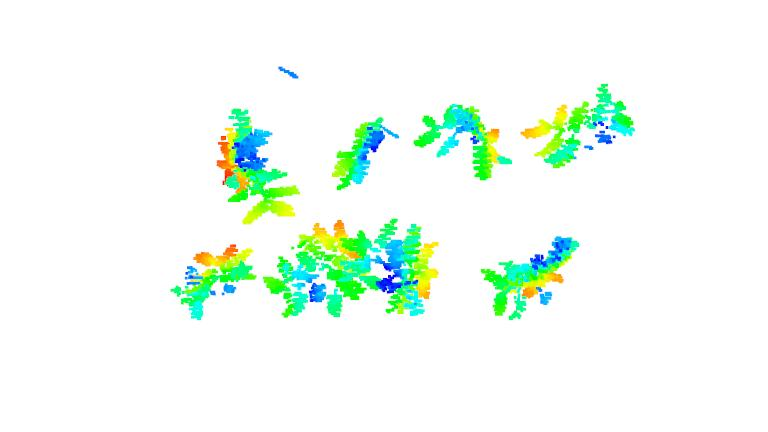chickpea: (212, 107, 303, 225), (263, 222, 376, 317), (520, 80, 637, 169), (480, 232, 582, 321), (413, 103, 514, 182), (168, 242, 259, 322), (371, 217, 438, 319), (328, 115, 386, 191)
